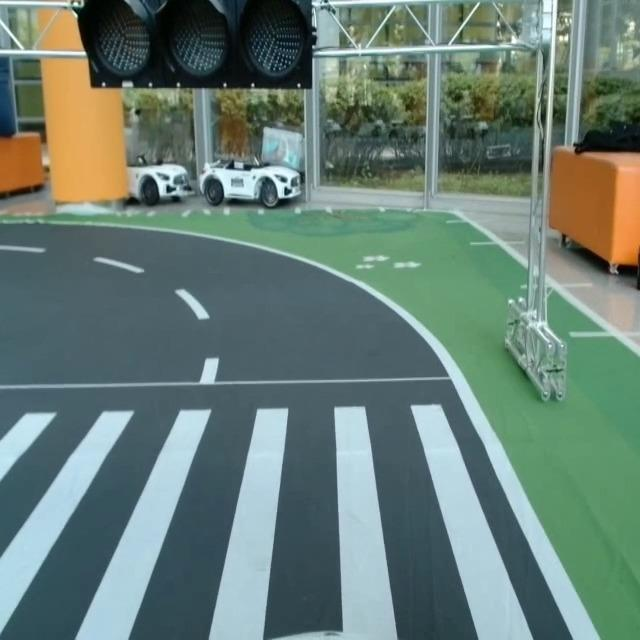traffic-light: (76, 0, 315, 93)
